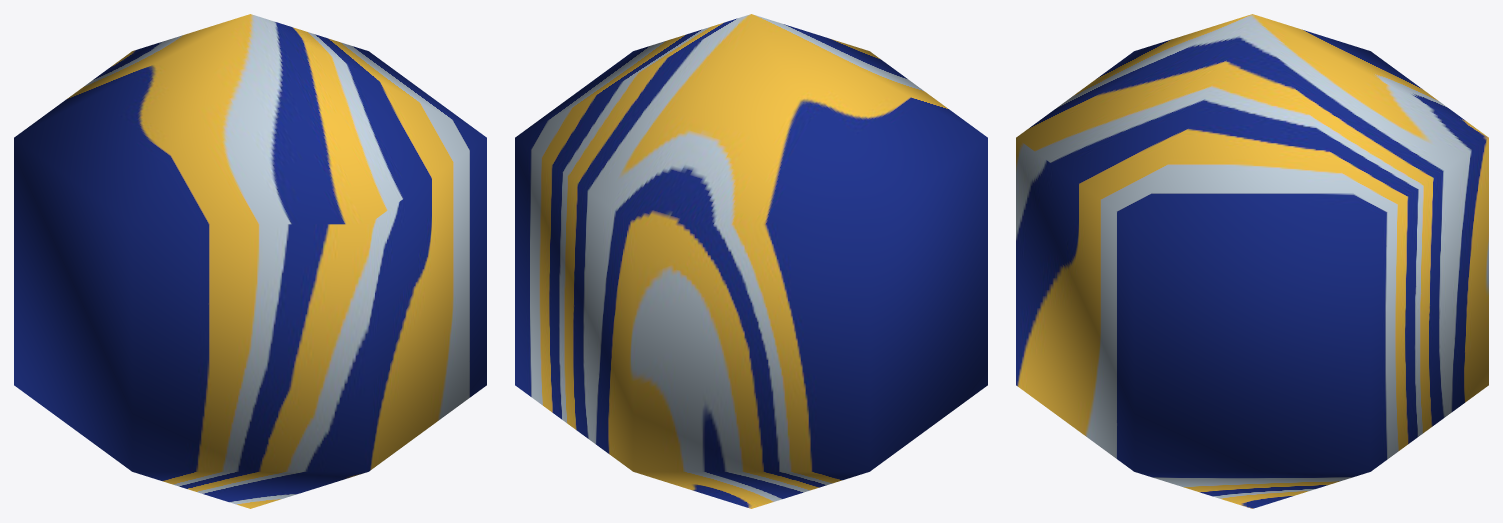
File: dragonflymarble_shooter.DAE
3 renders of one model, left to right at view 1: azimuth 30°, elevation 25°; view 2: azimuth 150°, elevation 25°; view 3: azimuth 270°, elevation 25°, orthographic.
Visible parts, largest first — view 1: Shooter_H; view 2: Shooter_H; view 3: Shooter_H.
Boxes of the visible parts, <box> form: Shooter_H: <box>14,14,486,508</box>; Shooter_H: <box>515,14,987,508</box>; Shooter_H: <box>1016,14,1488,508</box>.
Size of the model in its own units: 0.0381 by 0.044 by 0.0508.
1 material, 1 textured.
